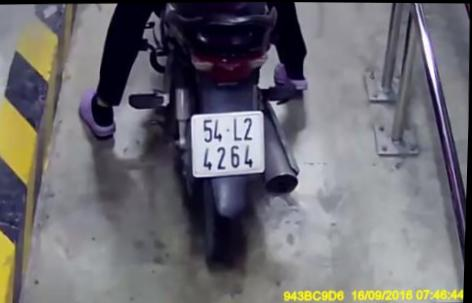LP: (188, 110, 268, 177)
